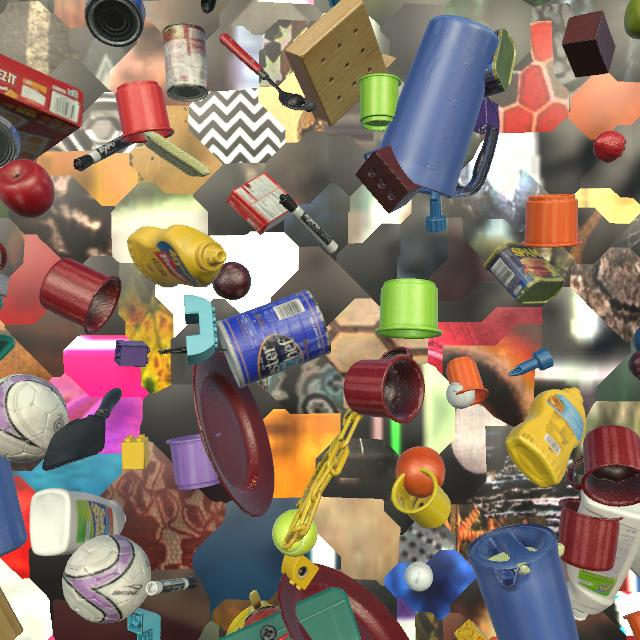ycb_002_master_chef_can: (216, 289, 331, 388)
ycb_003_cracker_box: (0, 54, 84, 161)
ycb_005_tomato_soup_can: (162, 22, 209, 102)
ycb_006_mustard_bottle: (505, 387, 586, 488), (127, 224, 227, 288)
ycb_007_tuna_fish_can: (84, 0, 145, 47), (0, 116, 21, 169)
ycb_008_pudding_box: (0, 272, 10, 297)
ycb_009_gelatin_box: (226, 172, 299, 235)
ycb_010_potted_meat_can: (484, 242, 565, 304), (483, 28, 516, 98)
ycb_012_strawberry: (593, 131, 626, 163)
ycb_013_apple: (0, 159, 55, 218)
ycb_016_pear: (624, 0, 640, 40)
ycb_017_orange: (395, 446, 445, 498)
ycb_018_plum: (212, 262, 251, 300), (628, 351, 640, 380)
